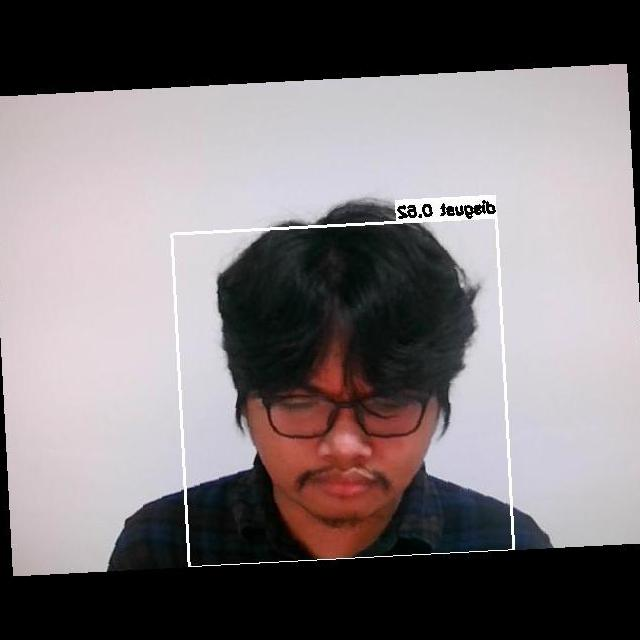Angry: (255, 360, 451, 508)
